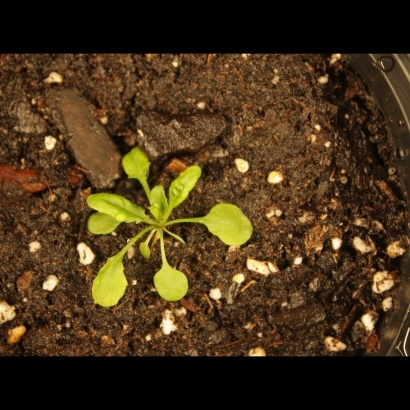leaf: (83, 251, 134, 314), (201, 202, 255, 251), (148, 260, 195, 308), (86, 189, 148, 225), (168, 158, 209, 210), (116, 140, 154, 182), (147, 180, 171, 225), (86, 210, 124, 237), (134, 236, 157, 259)
